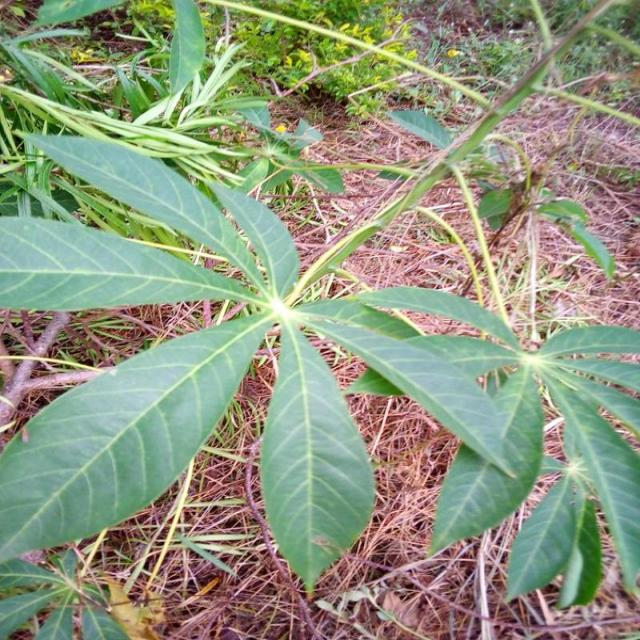cassava leaf: (0, 310, 275, 564), (20, 129, 274, 300), (259, 317, 376, 594), (0, 213, 266, 311), (426, 363, 544, 559)
